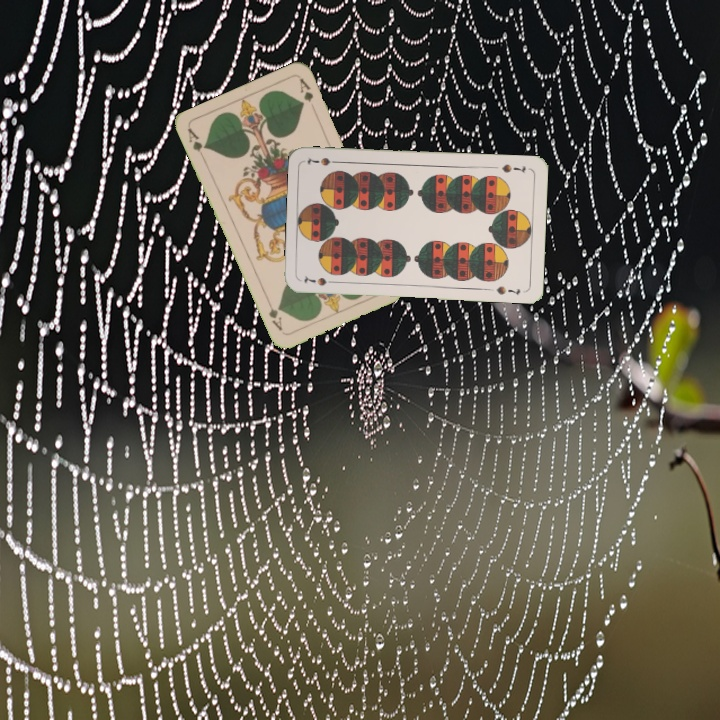GA: (184, 124, 209, 154)
S7: (300, 272, 339, 289), (498, 160, 528, 176)
